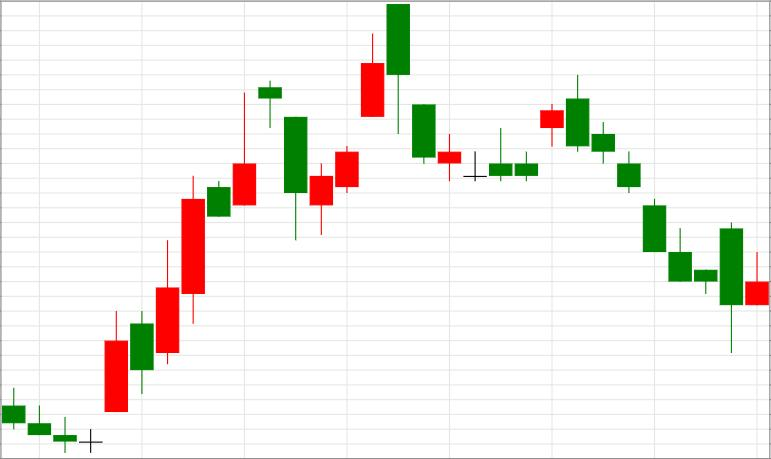evening_star_fall: (104, 81, 308, 411)
shooting_star_fall: (104, 93, 256, 412)
